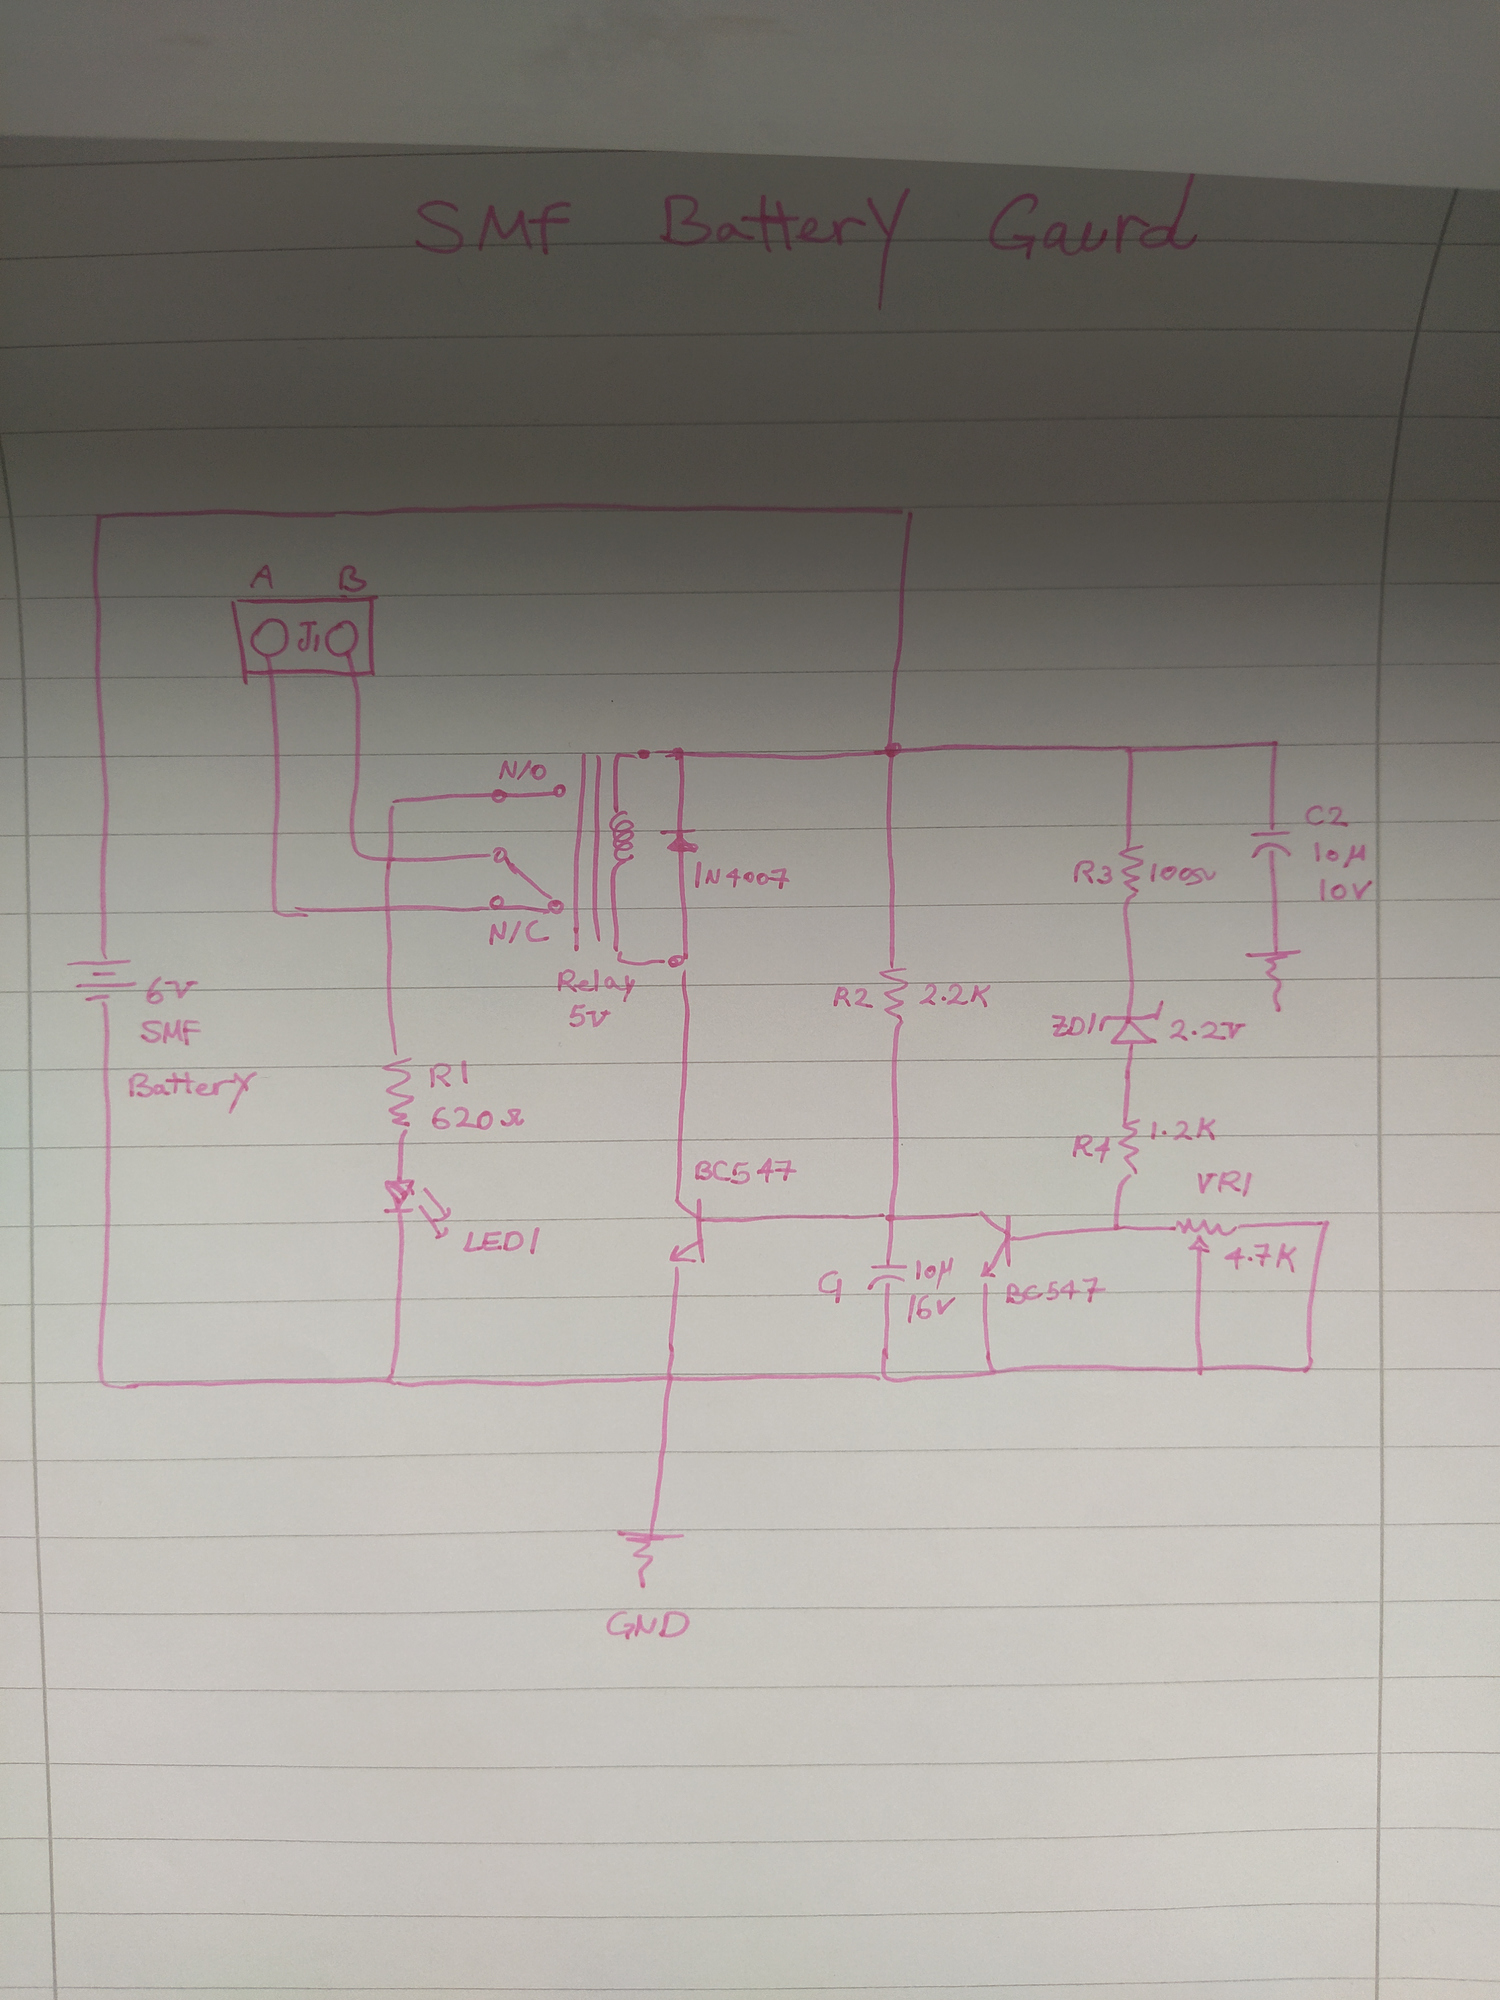capacitor.unpolarized: (1248, 827, 1294, 863), (863, 1261, 912, 1291)
crossover: (378, 898, 400, 918), (380, 850, 400, 868)
diode: (1097, 998, 1166, 1047), (655, 827, 703, 855)
diode.light_emitting: (380, 1175, 455, 1243)
gnd: (613, 1526, 687, 1591), (1243, 946, 1303, 1014)
junction: (265, 899, 304, 924), (347, 835, 373, 865), (662, 953, 698, 975), (670, 743, 693, 765), (881, 742, 904, 761), (378, 1372, 402, 1391), (897, 504, 919, 521), (1122, 742, 1142, 759), (95, 1376, 115, 1394), (660, 1370, 681, 1387), (1267, 735, 1287, 751), (873, 1369, 893, 1384), (879, 1209, 898, 1225), (985, 1364, 1002, 1380), (1301, 1359, 1317, 1376), (1317, 1216, 1335, 1231), (384, 795, 402, 811), (1193, 1364, 1209, 1380), (91, 510, 109, 524), (1109, 1220, 1123, 1233)
relay: (482, 746, 662, 970)
resistor: (378, 1047, 418, 1135), (874, 961, 912, 1027), (1116, 843, 1147, 904), (1116, 1117, 1142, 1183)
resistor.adjustable: (1172, 1216, 1245, 1257)
terminal: (247, 616, 291, 658), (321, 617, 361, 658)
text: (408, 170, 1202, 317), (124, 1066, 260, 1115), (693, 1154, 799, 1187), (1004, 1274, 1108, 1307), (693, 858, 793, 891), (555, 965, 637, 1005), (603, 1608, 693, 1641), (429, 1104, 526, 1132), (460, 1224, 544, 1257), (1223, 1239, 1300, 1274), (915, 981, 993, 1009), (137, 1016, 205, 1047), (1168, 1017, 1249, 1043), (1147, 860, 1218, 888), (1194, 1167, 1254, 1200), (1149, 1115, 1218, 1143), (487, 917, 551, 946), (143, 973, 202, 1006), (1311, 839, 1369, 869), (904, 1291, 956, 1324), (1317, 876, 1374, 904), (912, 1254, 956, 1290), (1070, 1132, 1112, 1165), (427, 1058, 471, 1090), (566, 1002, 613, 1030), (1071, 857, 1116, 887), (496, 757, 548, 783), (1049, 1011, 1098, 1038), (1305, 802, 1350, 830), (830, 984, 874, 1013), (293, 619, 323, 655), (816, 1268, 845, 1306), (337, 564, 369, 594), (247, 564, 276, 591)
transistor: (663, 1195, 711, 1272), (974, 1208, 1015, 1288)
voltage.dc: (65, 951, 140, 1006)
